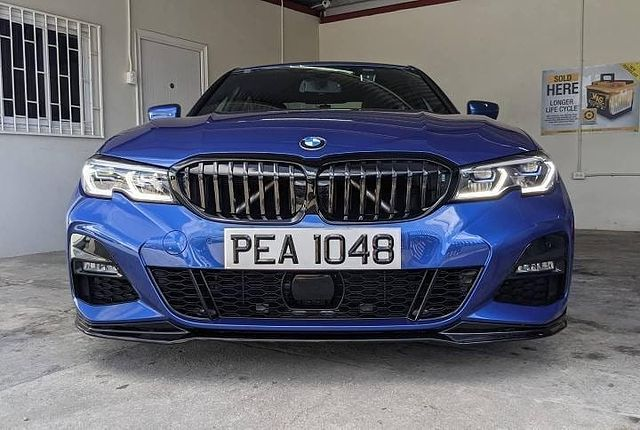License-Plate: (224, 228, 400, 268)
